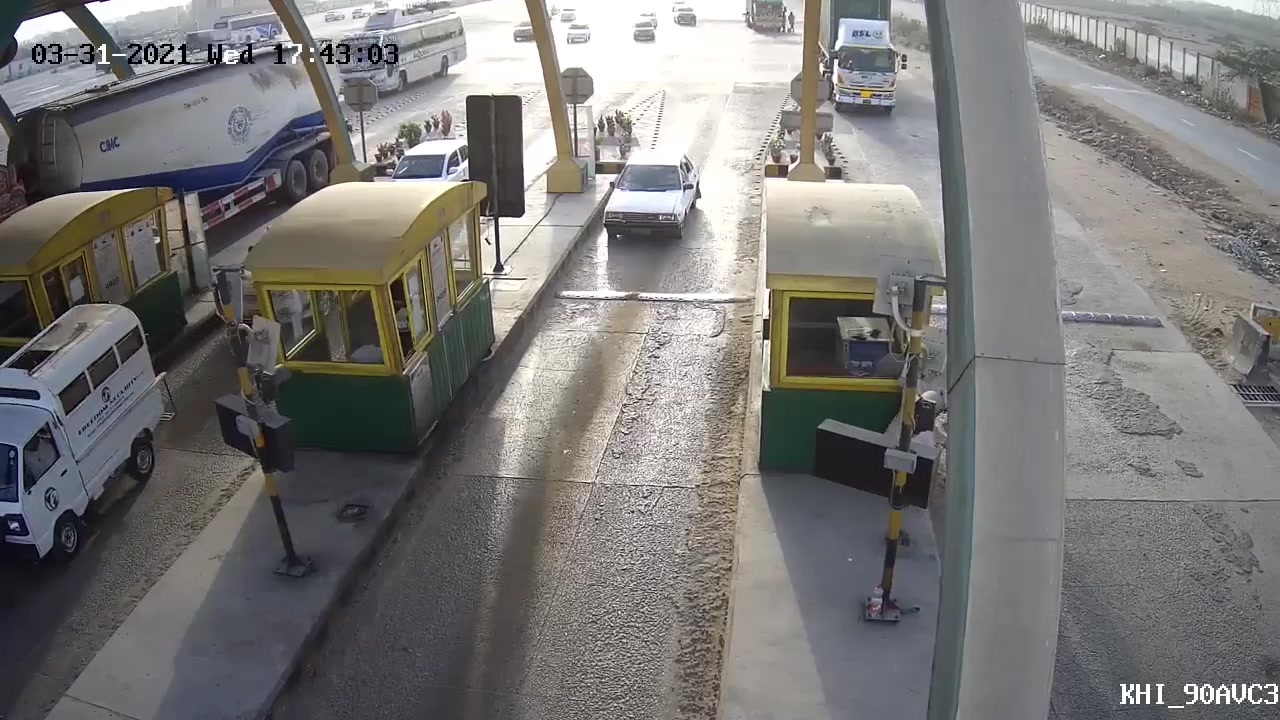F1: (601, 148, 703, 257)
